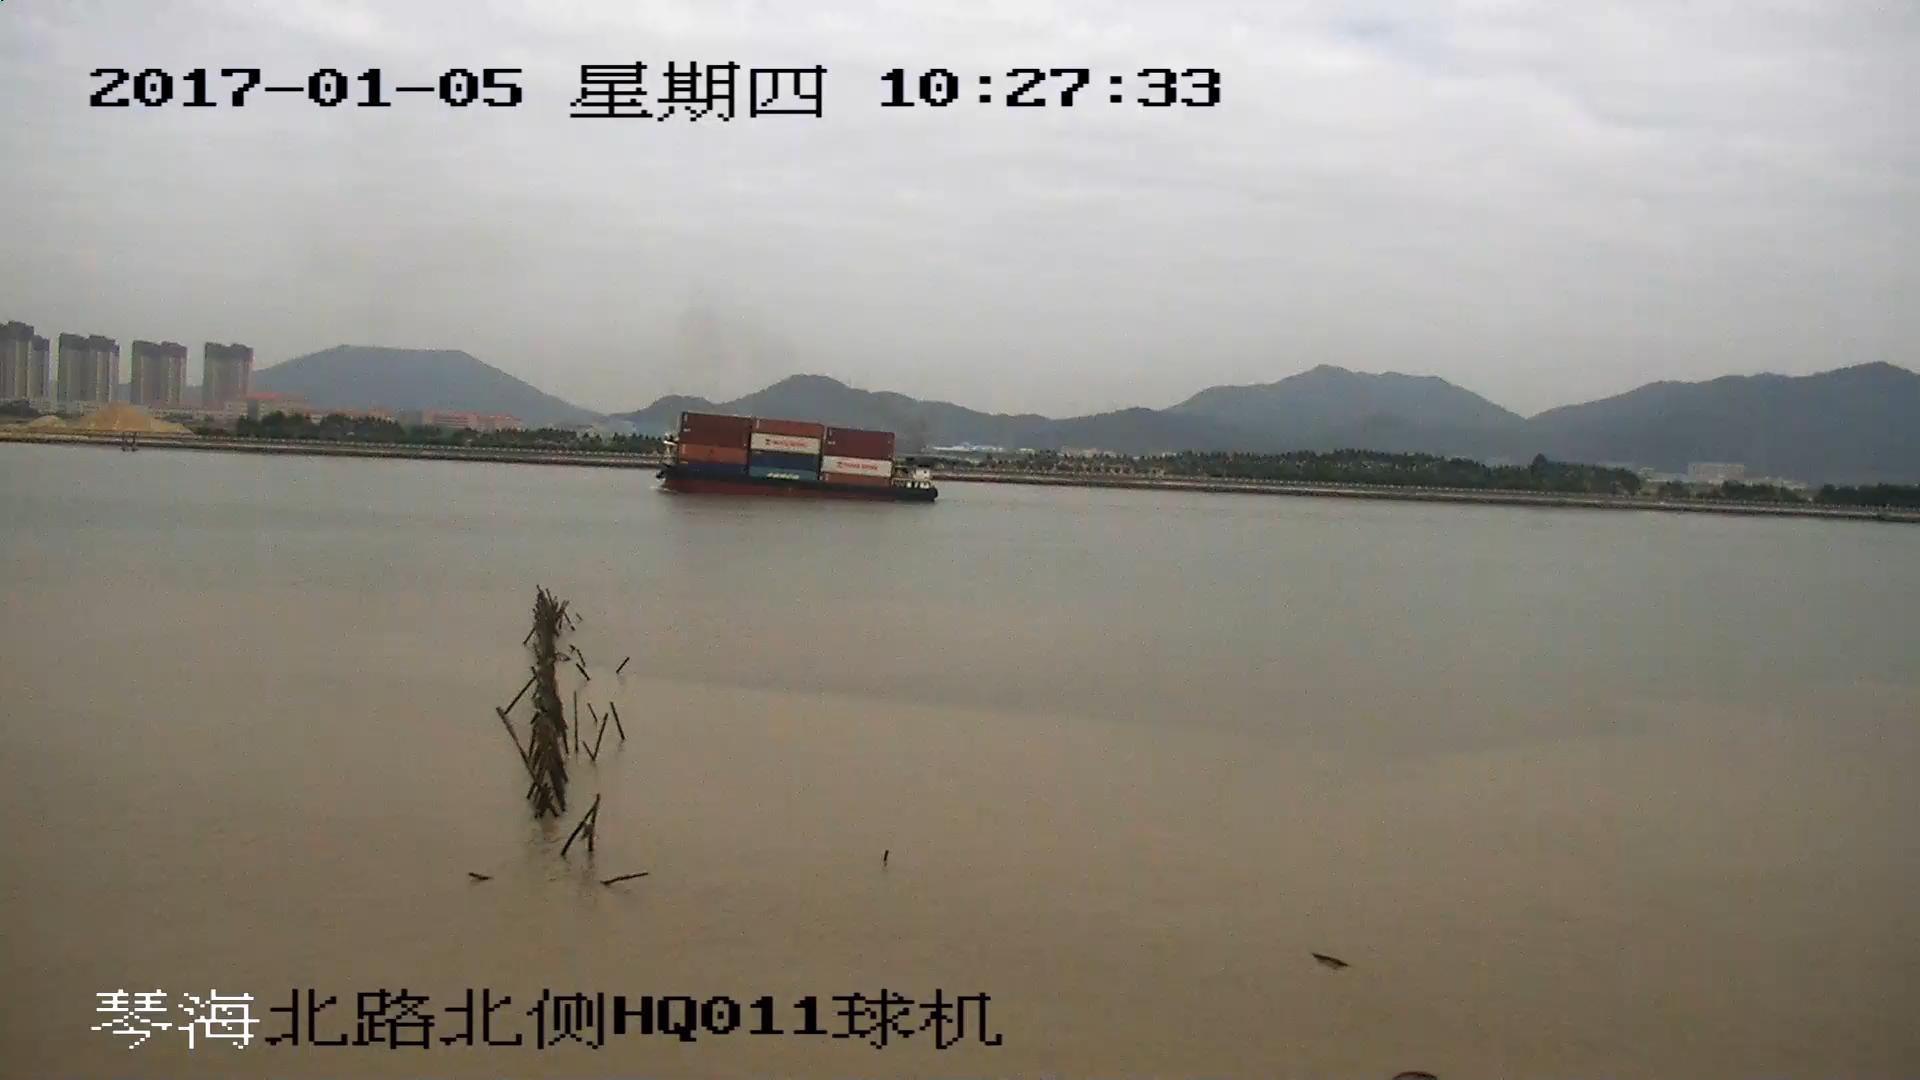container ship: (651, 415, 937, 508)
